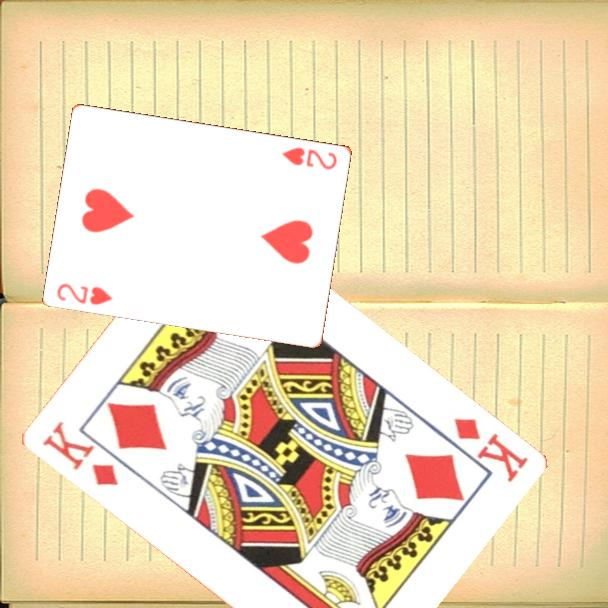d13: (38, 417, 121, 489), (449, 414, 531, 485)
h02: (54, 279, 116, 308), (279, 143, 340, 172)
